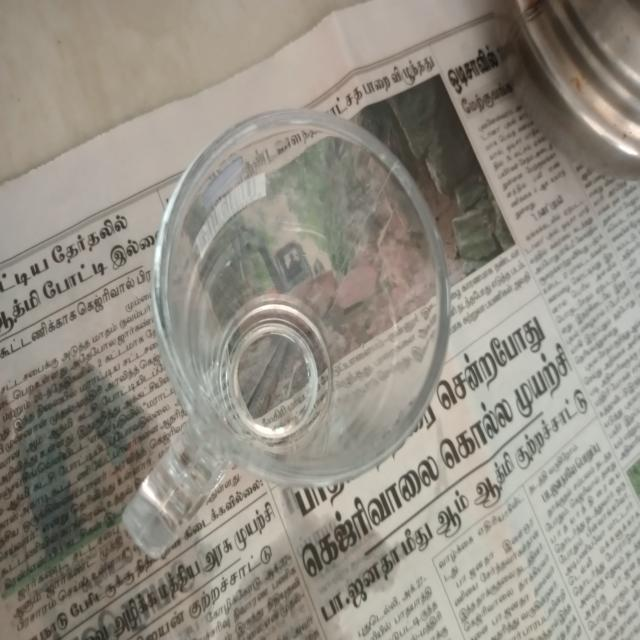glass-VX4N: (119, 109, 453, 564)
